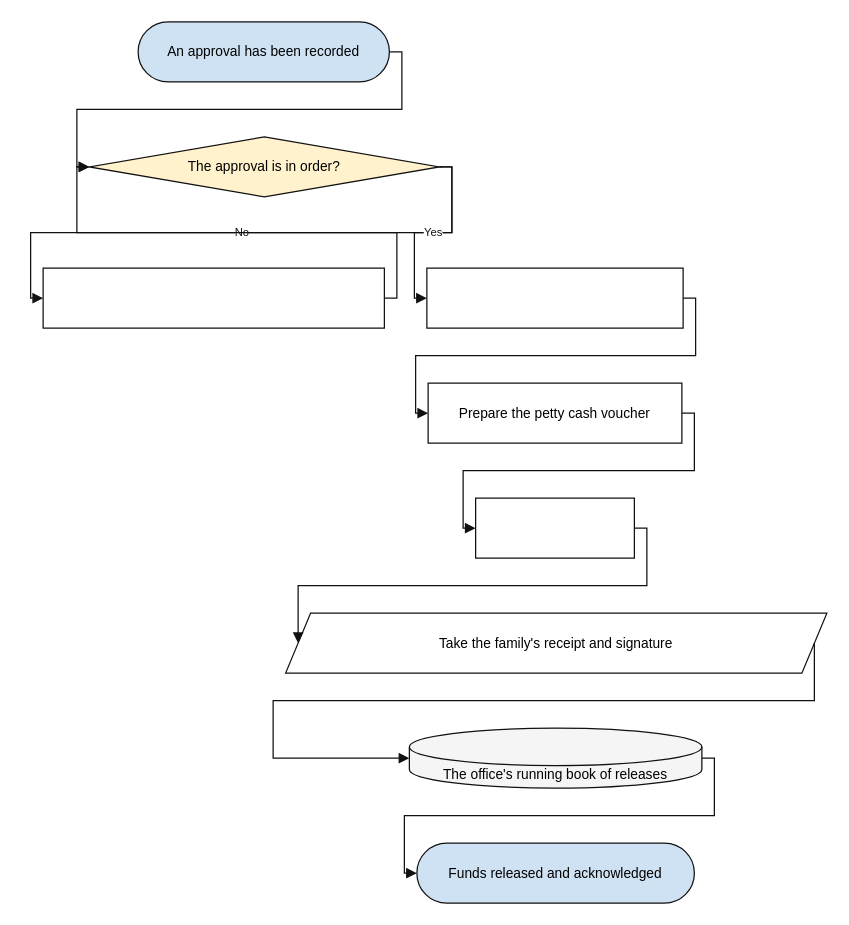
The diagram is 849 pixels wide and 925 high, and some of its shapes have lost their labels. Here are the shapes that lost their labels. From the top down, the box of each, then its label:
(42, 267, 384, 328): Hold the papers until the approval is settled
(426, 267, 683, 328): Issue the certificate of eligibility
(474, 497, 634, 558): Release the funds
